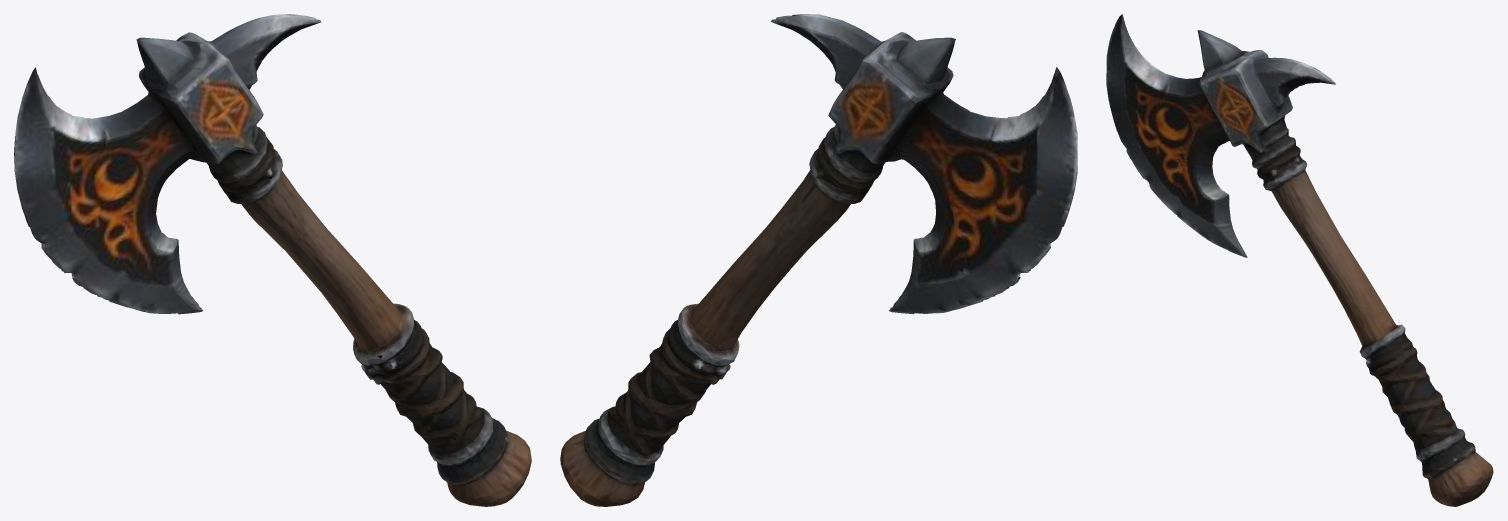
File: axe.glb
3 views of the same model, side by side, from view 1: azimuth 30°, elevation 25°; view 2: azimuth 150°, elevation 25°; view 3: azimuth 330°, elevation 25° (orthographic). The views are drawn at different scales.
Visible parts, largest first — view 1: axe; view 2: axe; view 3: axe.
Boxes of the visible parts, x1,y1,x2,y2 form: axe: [14, 14, 531, 506]; axe: [560, 14, 1077, 506]; axe: [1106, 14, 1493, 506].
Bounding box in the file's own units: 1.01 × 1.03 × 0.1432.
1 material, 1 textured.
